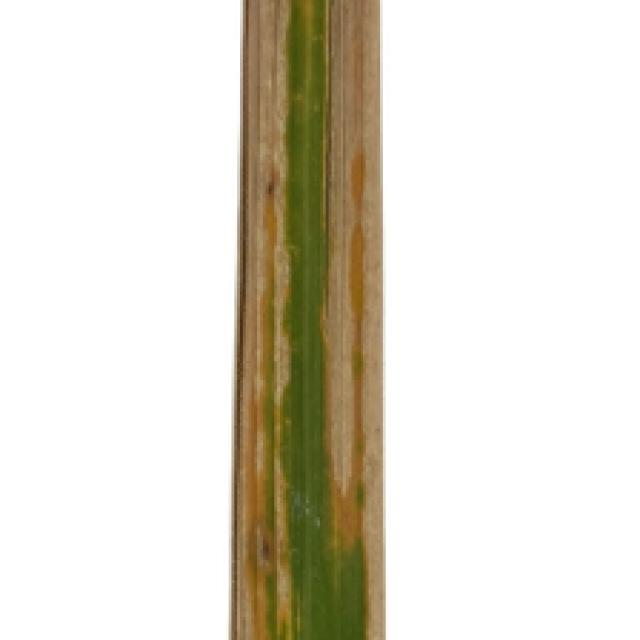Rice___Bacterial_Leaf_Blight: (227, 0, 387, 637)
